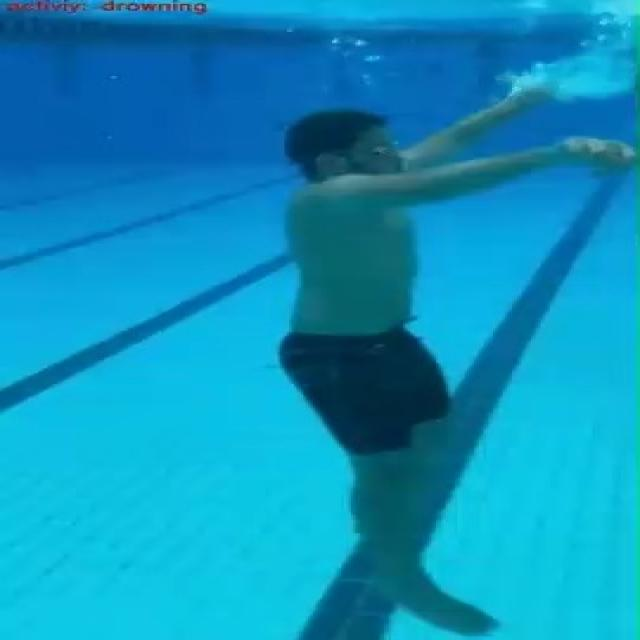Drowning: (270, 68, 640, 640)
